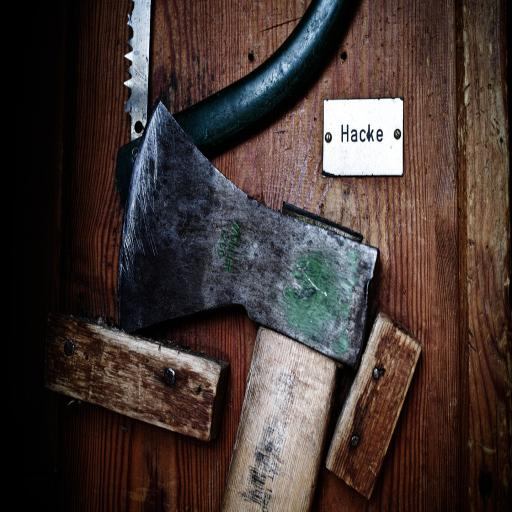Axe: (116, 98, 381, 512)
